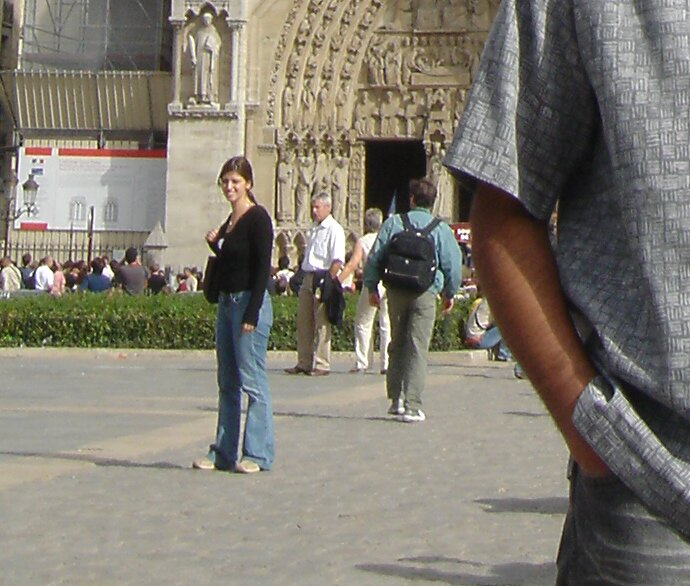person: (467, 3, 690, 575), (188, 151, 285, 476), (367, 177, 453, 418), (287, 177, 337, 380)
